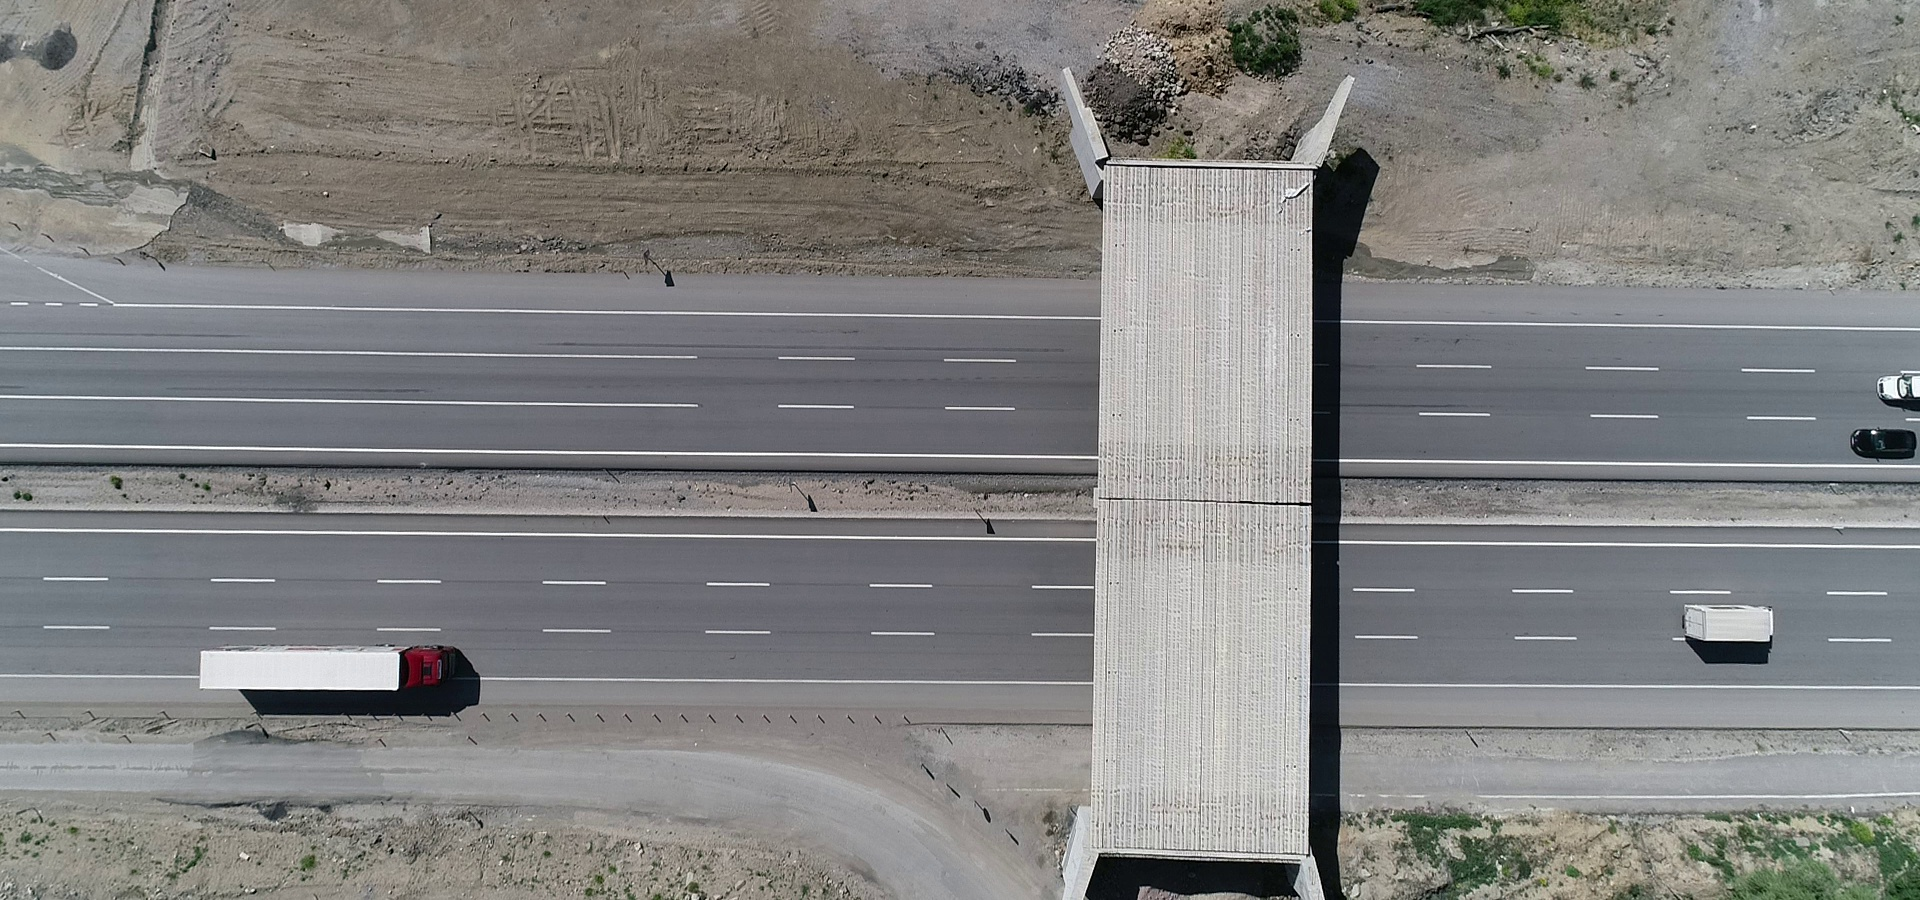arac: (191, 637, 467, 696), (1671, 601, 1794, 647), (1842, 418, 1920, 459), (1878, 362, 1920, 400)
